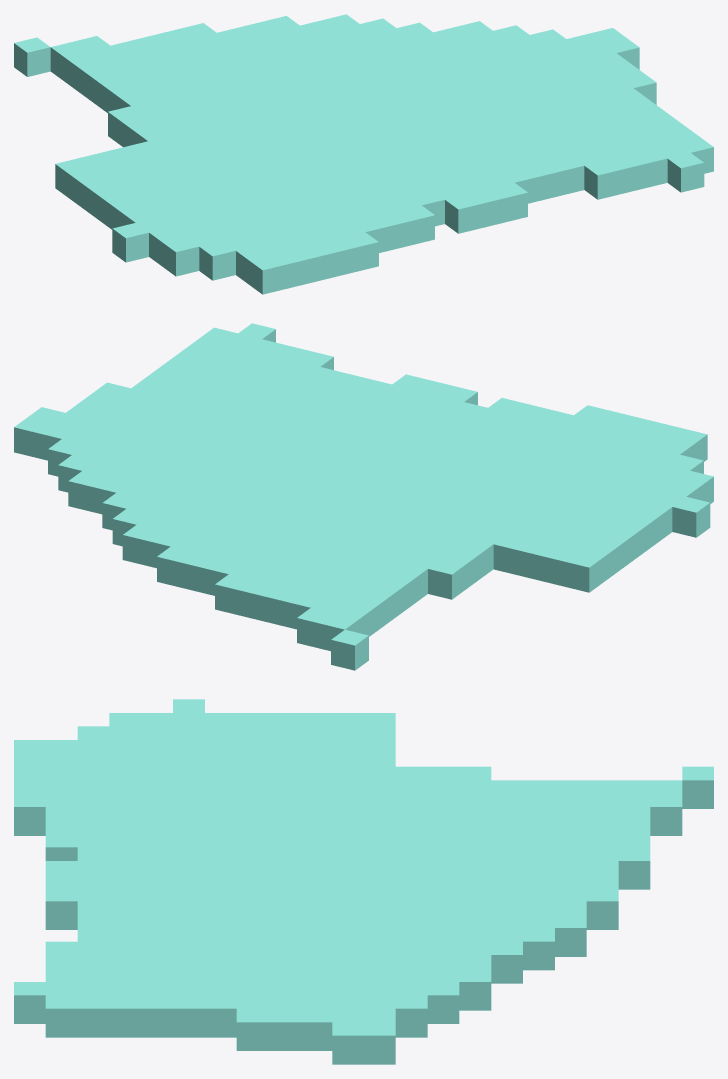
File: NegeriSembilan.fbx
The picture shows the model from 3 angles, top to bottom: view 1: azimuth 30°, elevation 25°; view 2: azimuth 150°, elevation 25°; view 3: azimuth 270°, elevation 25°; orthographic projection. The views are drawn at different scales.
Parts seen in each view (by area): view 1: NegeriSembilan; view 2: NegeriSembilan; view 3: NegeriSembilan.
Boxes of the visible parts, <box> form: NegeriSembilan: <box>14,14,713,294</box>; NegeriSembilan: <box>14,323,713,670</box>; NegeriSembilan: <box>14,699,713,1064</box>.
Bounding box in the file's own units: 25 × 1 × 22.
Materials: 1 (1 with a texture image).
